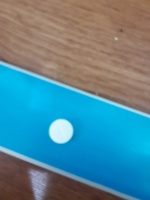Arveles: (48, 118, 75, 145)
